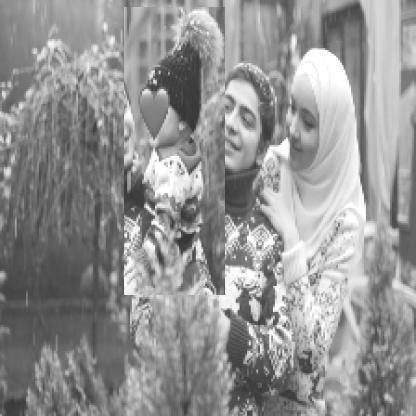child: (126, 8, 228, 297)
